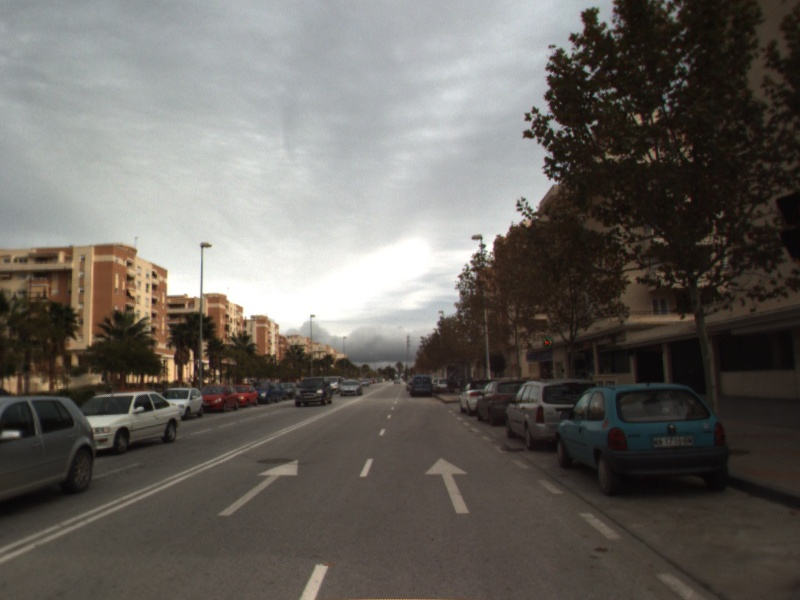STRAIGHT: (215, 458, 300, 518), (423, 455, 472, 515)
